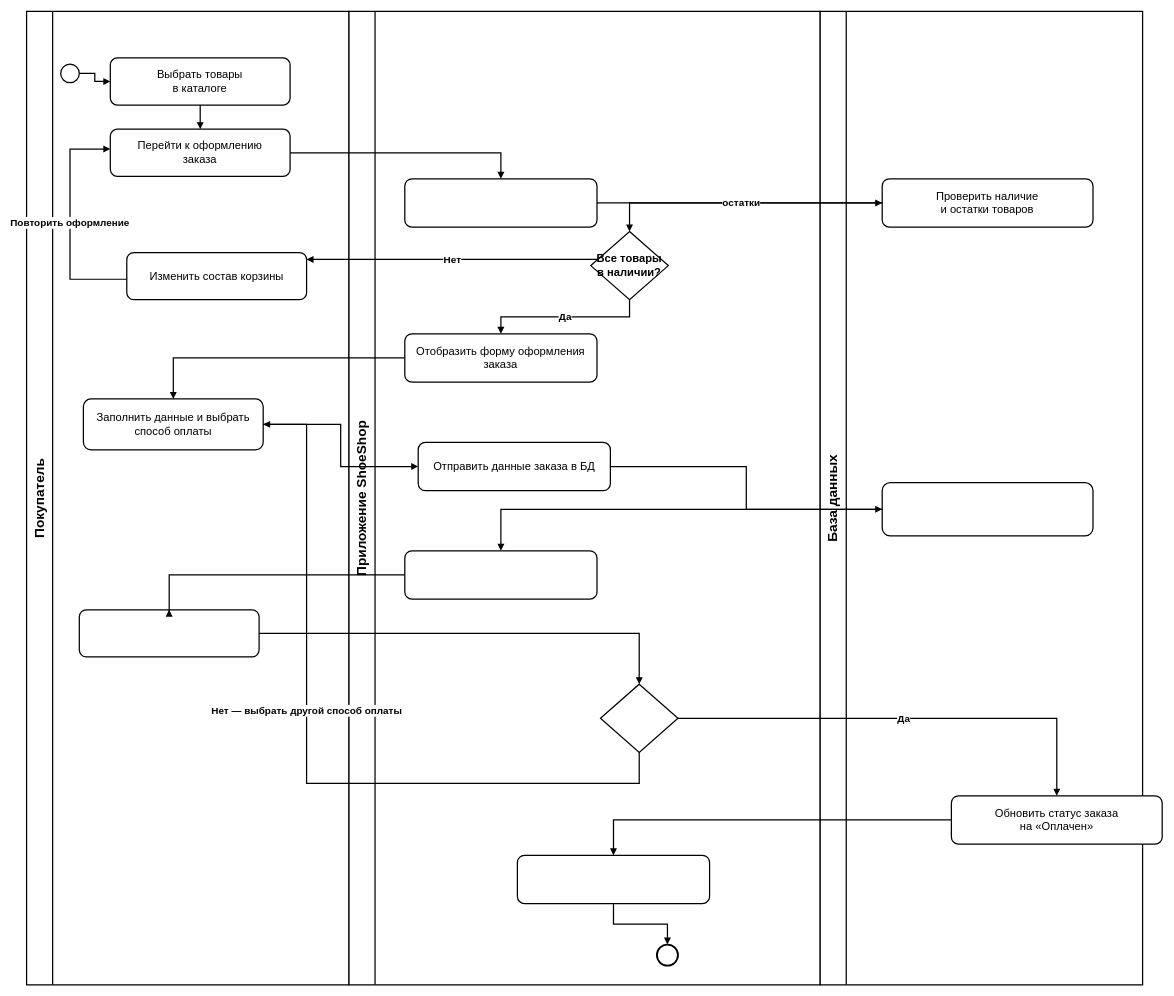
This 1174x996 diagram has some shape labels left out. The shapes that lost their labels are listed below. From the top down, each one's centre as x and y in pixels, then its label:
point 500,202: Запросить актуальные остатки товаров
point 987,509: Создать запись о заказе со статусом «Ожидает оплаты»
point 500,574: Перейти к оплате (платёжный шлюз)
point 168,633: Оплатить заказ
point 639,718: Оплата прошла успешно?
point 613,879: Показать сообщение об успешном заказе
